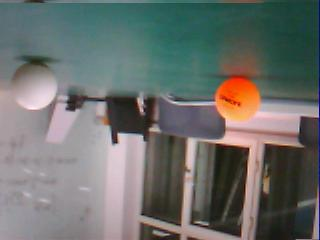oball: (216, 77, 260, 120)
